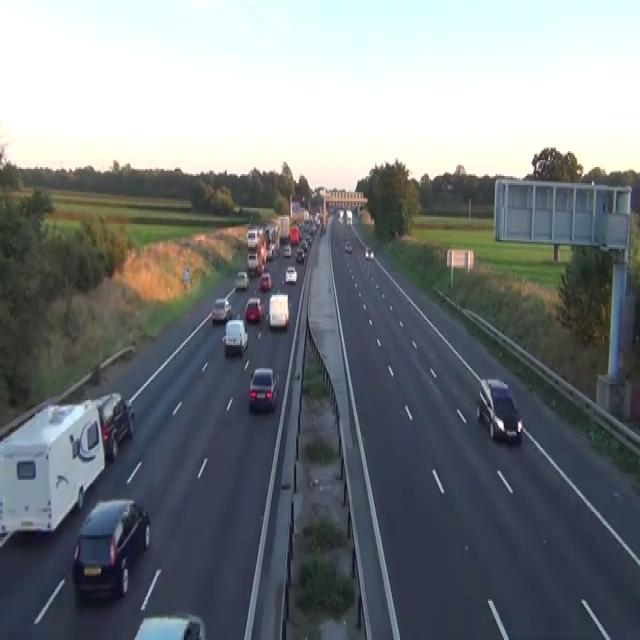Car: (72, 498, 150, 601), (476, 377, 522, 443), (94, 391, 134, 461), (132, 614, 205, 638), (248, 366, 278, 411), (222, 318, 248, 358), (280, 430, 297, 489), (211, 297, 231, 322), (244, 297, 264, 322), (234, 270, 249, 290), (246, 252, 259, 272), (284, 265, 297, 283), (259, 272, 272, 290), (295, 247, 304, 263), (364, 246, 373, 260), (280, 231, 289, 244), (266, 246, 273, 260), (344, 240, 352, 252), (283, 244, 291, 256), (320, 222, 327, 235), (300, 240, 307, 251), (309, 224, 316, 235), (446, 182, 454, 190), (338, 210, 343, 222), (315, 212, 320, 224), (346, 215, 351, 226), (306, 234, 312, 243)
Truck: (0, 398, 105, 546), (268, 291, 289, 329), (346, 208, 352, 226)
